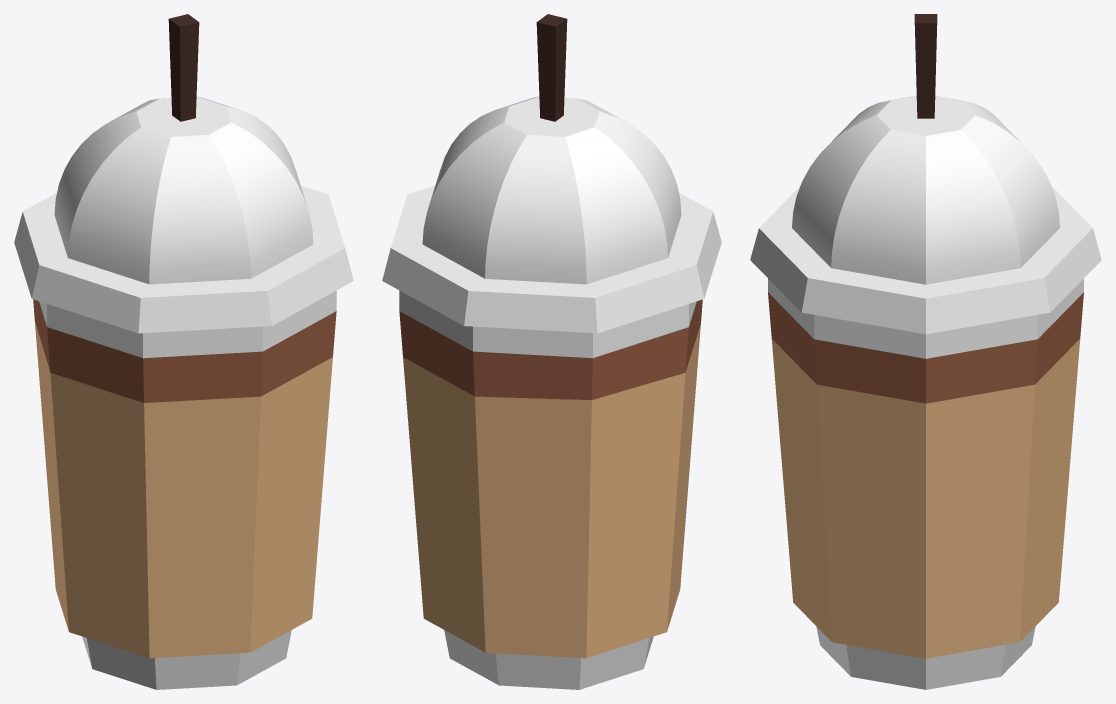
Rendered from frappe.obj.
3 views of the same model, side by side, from view 1: azimuth 30°, elevation 25°; view 2: azimuth 150°, elevation 25°; view 3: azimuth 270°, elevation 25° (orthographic).
Parts seen in each view (by area): view 1: frappe, straw; view 2: frappe, straw; view 3: frappe, straw.
Boxes of the visible parts, left/top/right/bottom form: frappe: left=14, top=96, right=353, bottom=689; straw: left=168, top=14, right=199, bottom=121; frappe: left=382, top=96, right=721, bottom=689; straw: left=536, top=14, right=567, bottom=121; frappe: left=750, top=96, right=1101, bottom=689; straw: left=914, top=14, right=937, bottom=118.
Bounding box in the file's own units: 0.2541 × 0.4993 × 0.2541.
